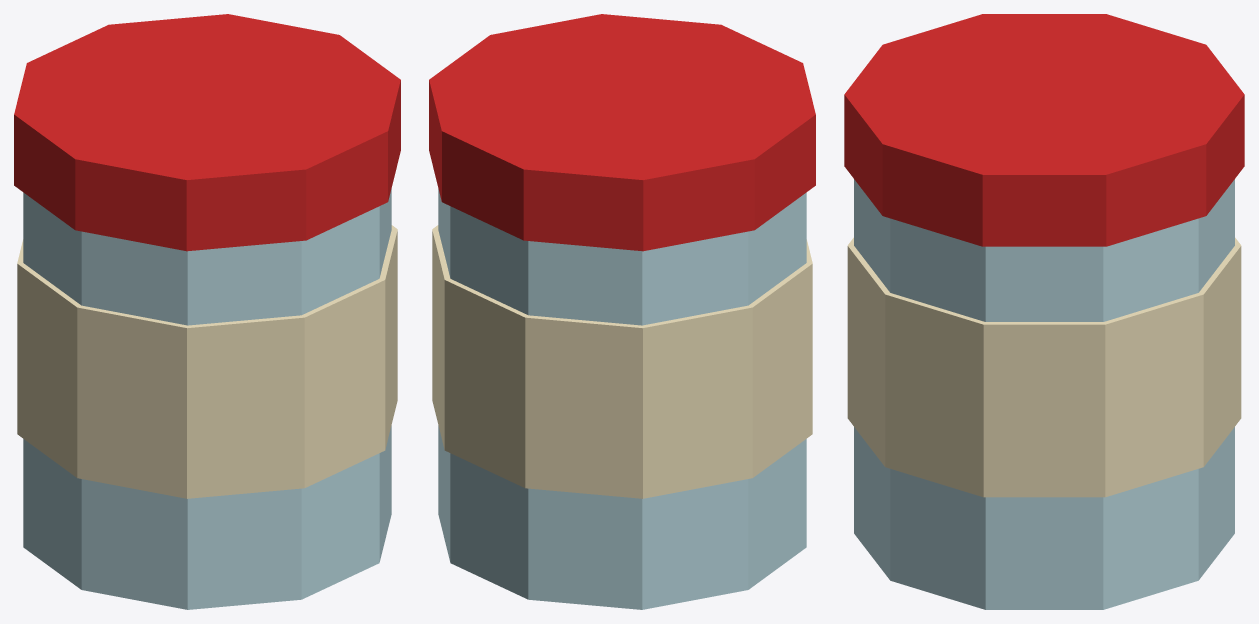
File: Trash_GlassJar.fbx
3 renders of one model, left to right at view 1: azimuth 30°, elevation 25°; view 2: azimuth 150°, elevation 25°; view 3: azimuth 270°, elevation 25°, orthographic.
Visible parts, largest first — view 1: Trash_GlassJar; view 2: Trash_GlassJar; view 3: Trash_GlassJar.
Boxes of the visible parts, <box> form: Trash_GlassJar: <box>14,14,400,609</box>; Trash_GlassJar: <box>429,14,815,609</box>; Trash_GlassJar: <box>844,14,1244,609</box>.
Size of the model in its own units: 0.1198 by 0.1525 by 0.126.
